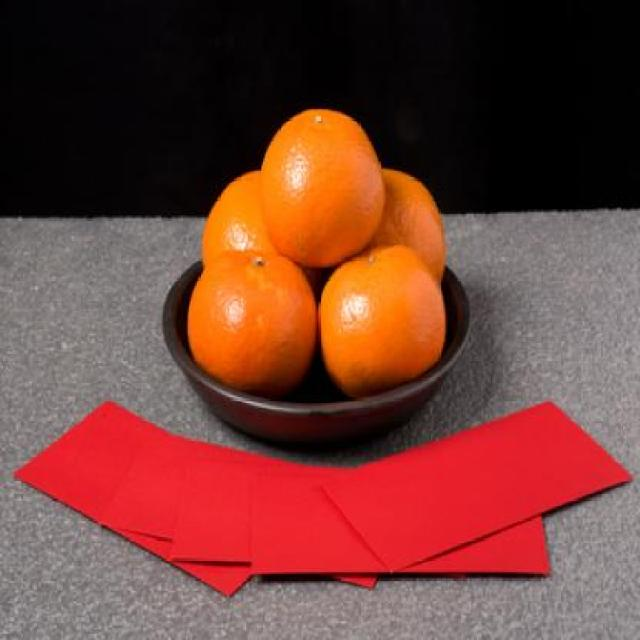Orange: (258, 106, 384, 266), (317, 243, 446, 397), (184, 248, 316, 394), (368, 166, 444, 283), (200, 169, 277, 268)
